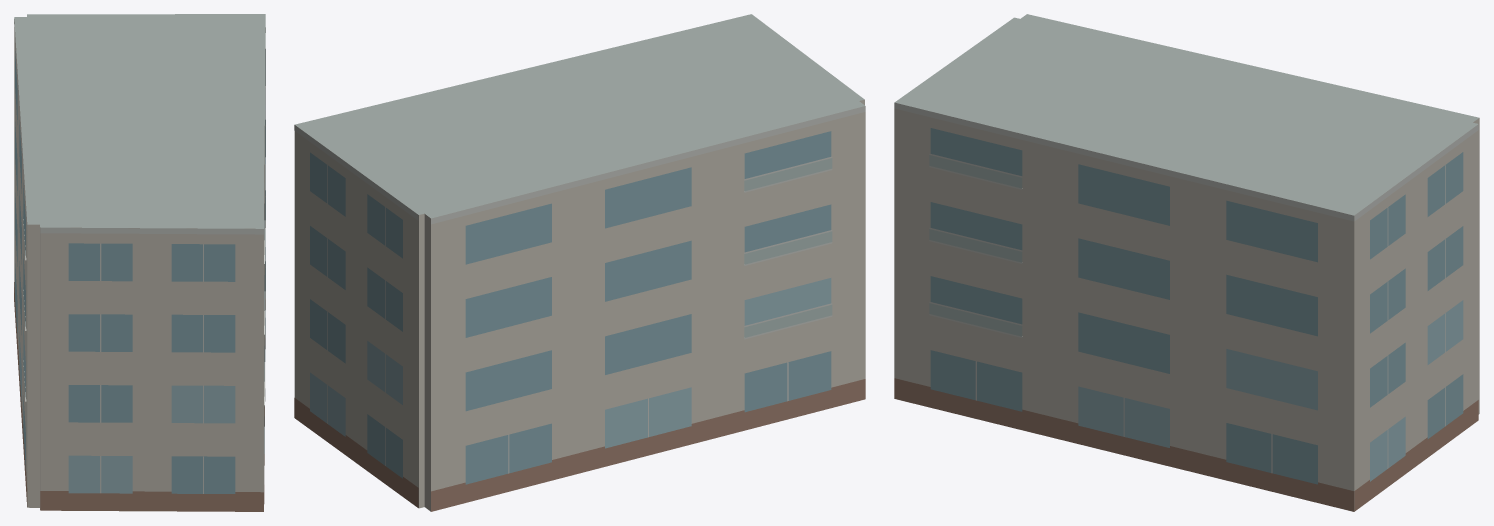
Rendered from survey-upis-33013886.glb.
3 views of the same model, side by side, from view 1: azimuth 30°, elevation 25°; view 2: azimuth 150°, elevation 25°; view 3: azimuth 270°, elevation 25° (orthographic). The views are drawn at different scales.
Parts seen in each view (by area): view 1: survey-upis-33013886.tmp; view 2: survey-upis-33013886.tmp; view 3: survey-upis-33013886.tmp.
Boxes of the visible parts, x1=… form: survey-upis-33013886.tmp: x1=14, y1=14, x2=265, y2=511; survey-upis-33013886.tmp: x1=294, y1=14, x2=865, y2=511; survey-upis-33013886.tmp: x1=894, y1=14, x2=1479, y2=511.
Size of the model in its own units: 17.7 by 12.12 by 21.71.
